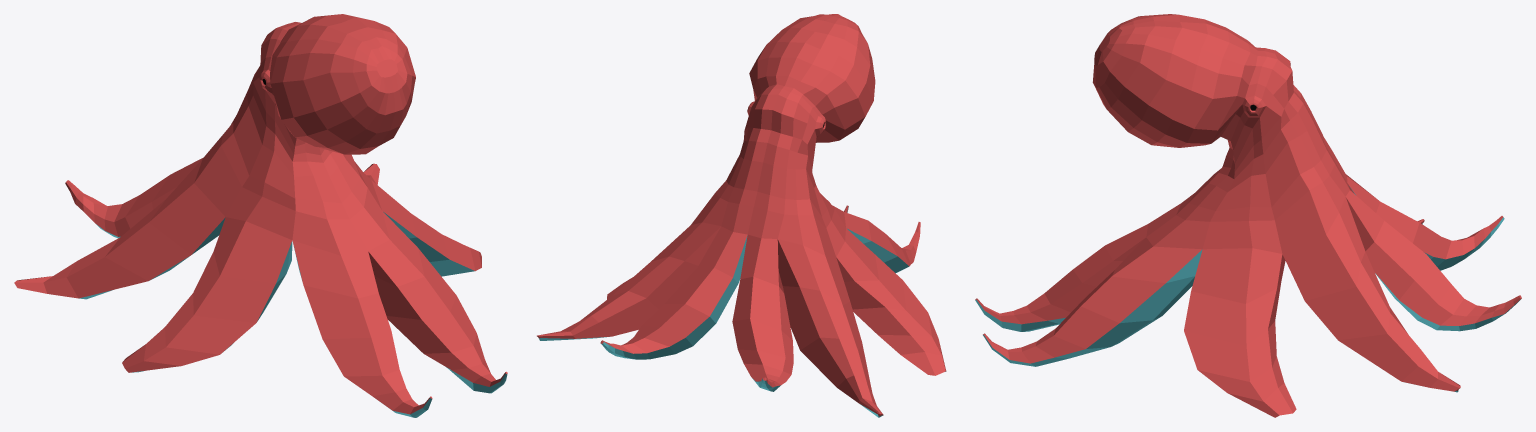
File: octopus.glb
3 renders of one model, left to right at view 1: azimuth 30°, elevation 25°; view 2: azimuth 150°, elevation 25°; view 3: azimuth 270°, elevation 25°, orthographic. The views are drawn at different scales.
Visible parts, largest first — view 1: Object_2, Object_4; view 2: Object_2, Object_4; view 3: Object_2, Object_4.
Part boxes in pixels (bbox=[...]): Object_2: bbox=[14, 14, 507, 414]; Object_4: bbox=[79, 212, 507, 417]; Object_2: bbox=[537, 14, 946, 416]; Object_4: bbox=[538, 206, 945, 417]; Object_2: bbox=[975, 14, 1521, 417]; Object_4: bbox=[975, 186, 1521, 392].
Bounding box in the file's own units: 36.61 × 29.61 × 45.6.
